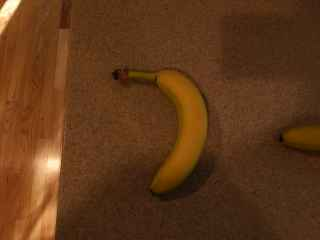banana: (106, 61, 214, 201), (277, 123, 320, 162)
